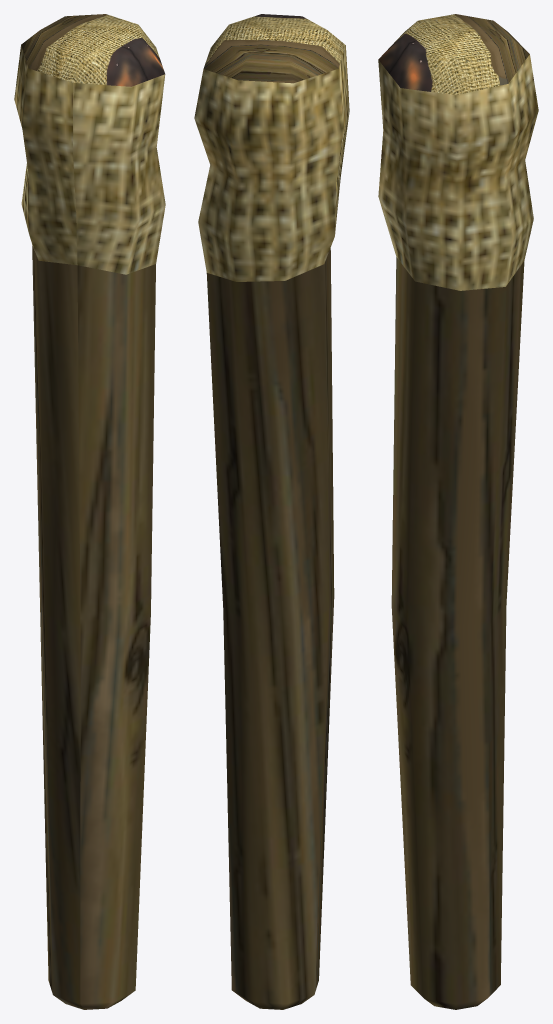
File: leverNew.fbx
3 renders of one model, left to right at view 1: azimuth 30°, elevation 25°; view 2: azimuth 150°, elevation 25°; view 3: azimuth 270°, elevation 25°, orthographic.
Visible parts, largest first — view 1: torch; view 2: torch; view 3: torch.
Boxes of the visible parts, x1,y1,x2,y2 form: torch: [14, 14, 165, 1009]; torch: [194, 14, 349, 1009]; torch: [378, 14, 538, 1009].
Size of the model in its own units: 0.098 by 0.6489 by 0.0969.
